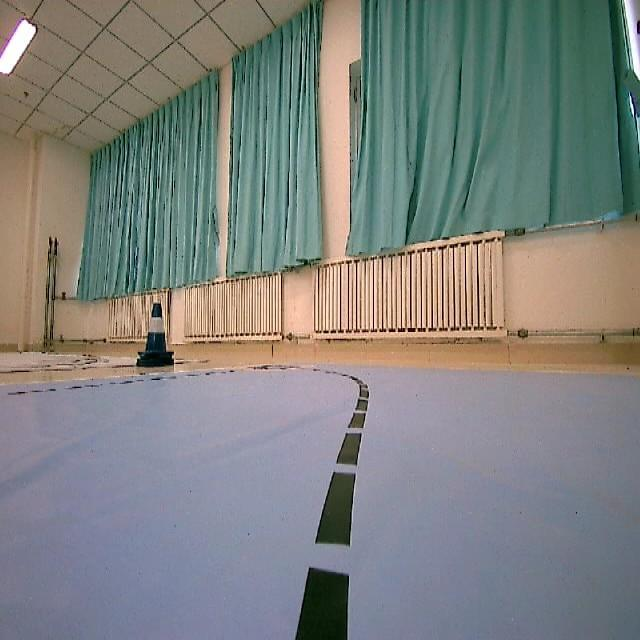obstacle: (132, 304, 177, 372)
